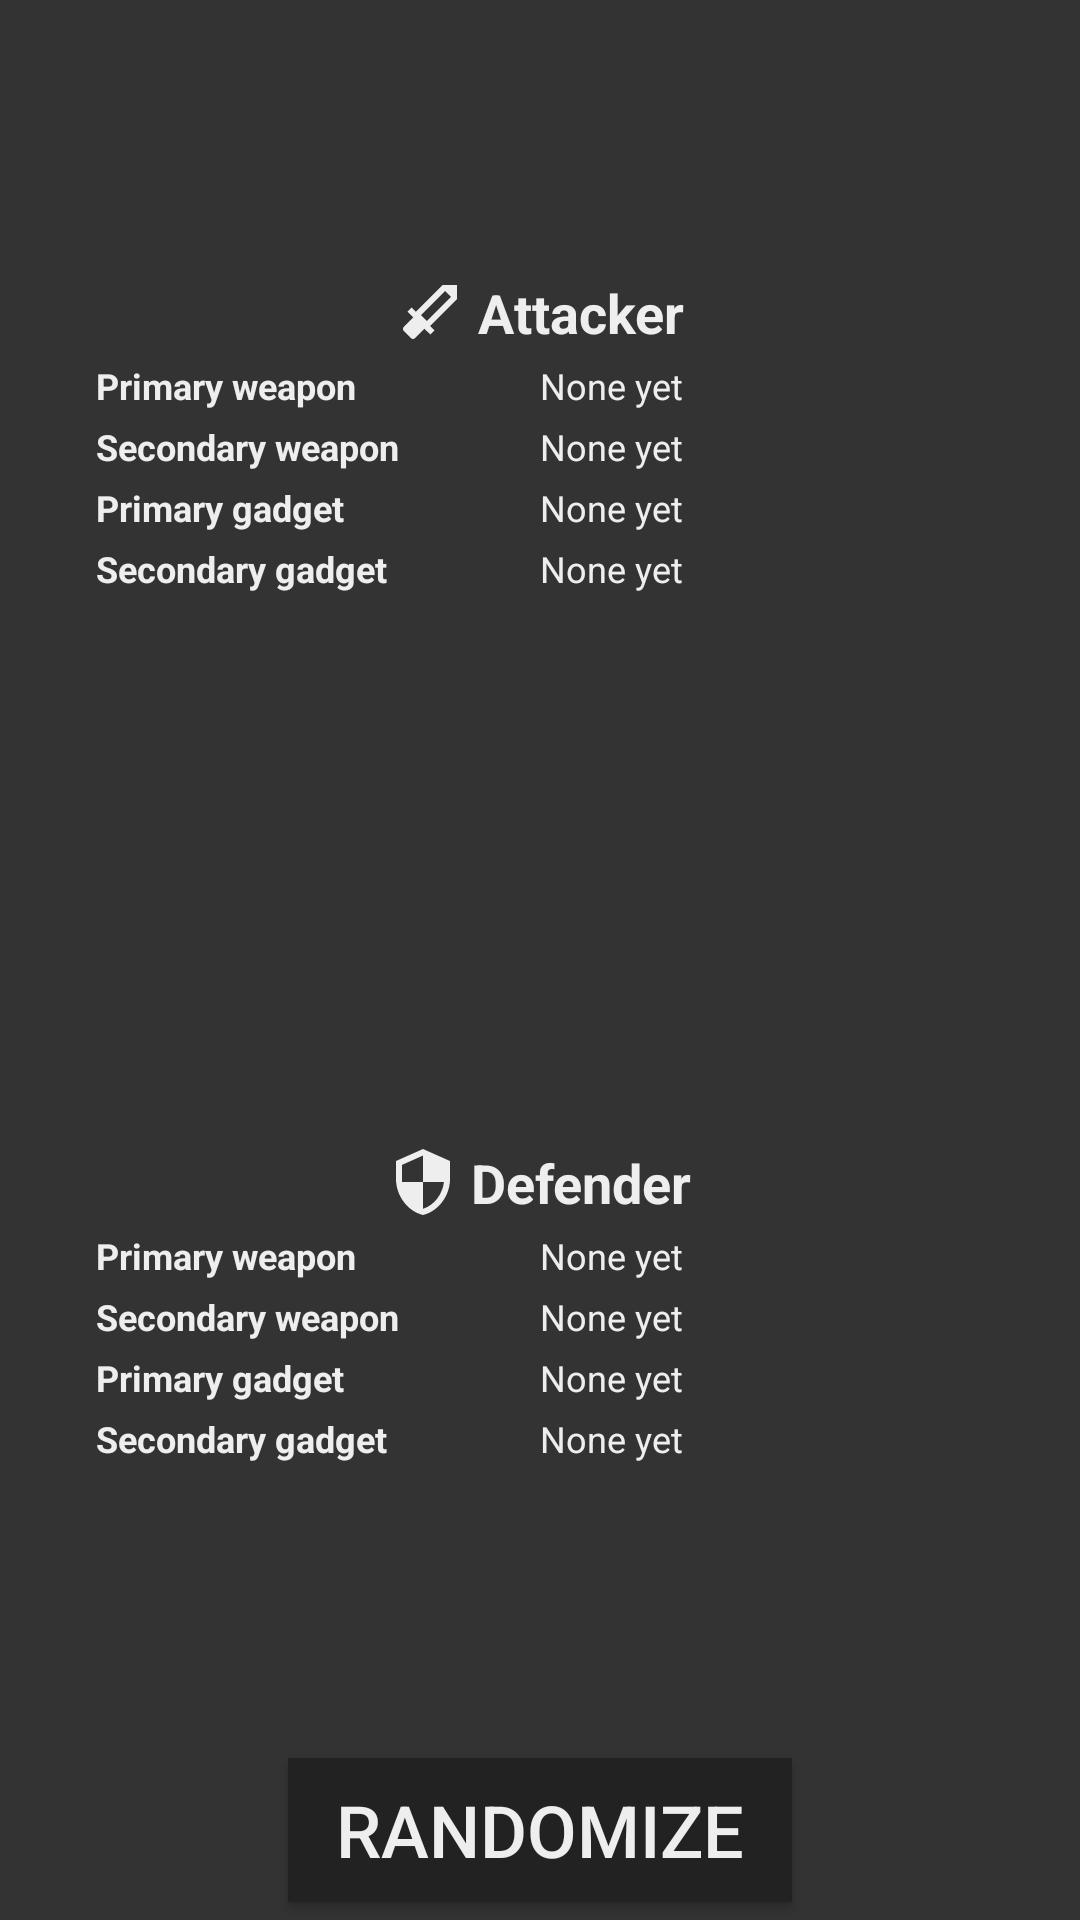

Icon click points for this 1080 × 1920 phone screenshot, format (x,y):
shield: (423,1182)
sword: (430,312)
